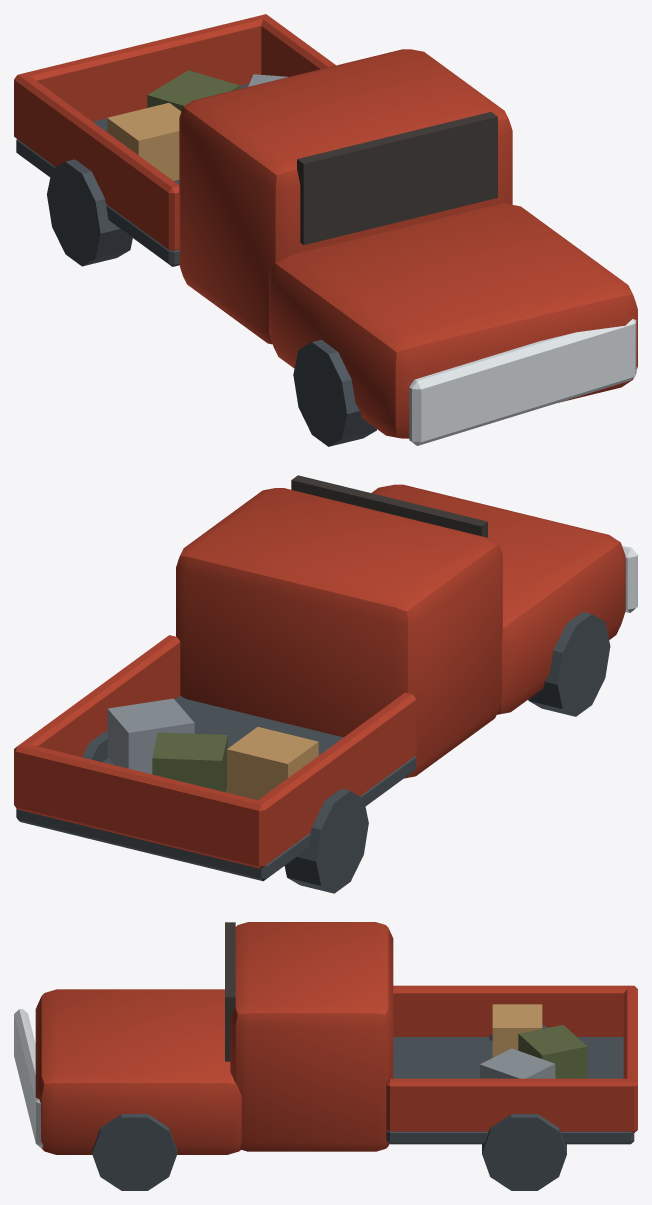
Rendered from Prop_CarWreck_B.fbx.
The picture shows the model from 3 angles, top to bottom: view 1: azimuth 30°, elevation 25°; view 2: azimuth 150°, elevation 25°; view 3: azimuth 270°, elevation 25°; orthographic projection. The views are drawn at different scales.
Parts seen in each view (by area): view 1: Hood, Window; view 2: Hood, Window; view 3: Hood, Window.
Part boxes in pixels (x1,y1,x2,y2): Hood: (14, 14, 637, 438); Window: (47, 70, 636, 446); Hood: (14, 484, 625, 881); Window: (82, 475, 637, 893); Hood: (35, 922, 637, 1154); Window: (14, 922, 587, 1190).
Bounding box in the file's own units: 7.1 × 5.54 × 17.61.
